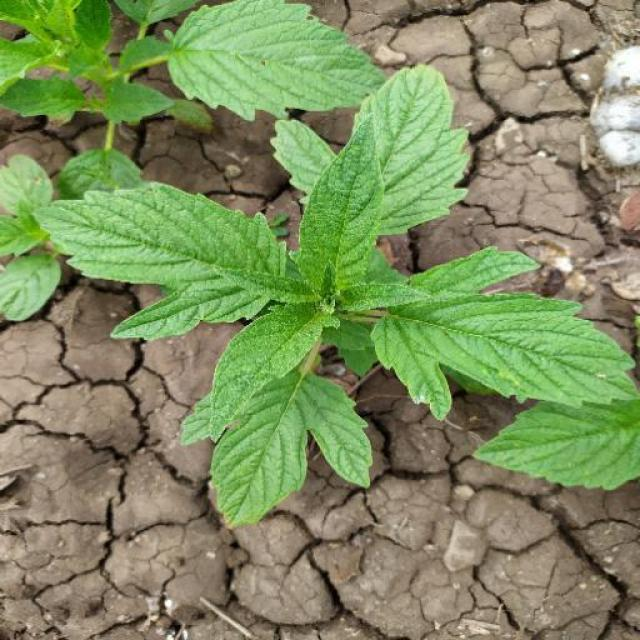crop: (1, 1, 640, 534)
